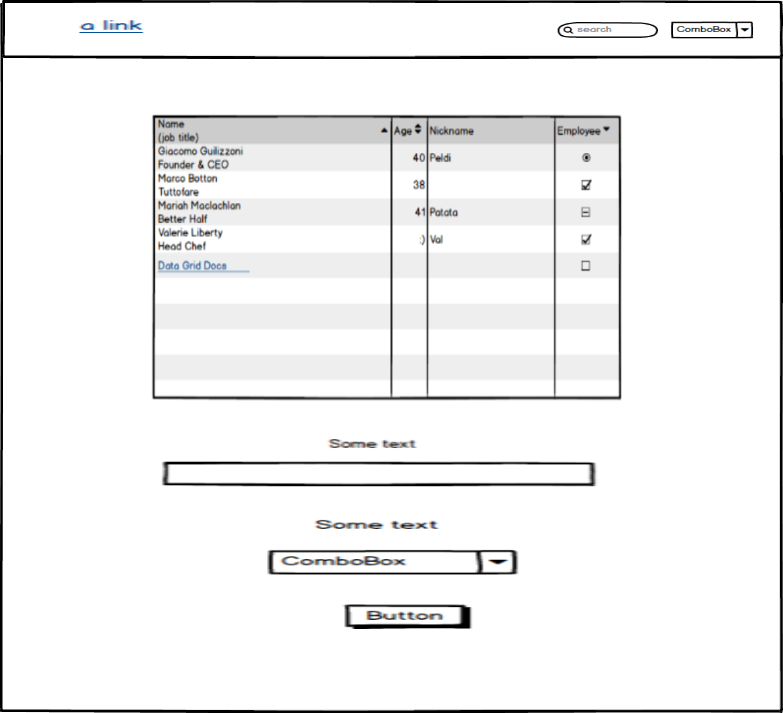button: (342, 595, 476, 634)
input: (159, 455, 599, 489)
label: (311, 514, 444, 536), (322, 435, 418, 453)
navlink: (73, 13, 152, 39)
search: (554, 18, 659, 42)
select_box: (260, 546, 521, 578), (668, 17, 756, 42)
table: (147, 110, 627, 403)
